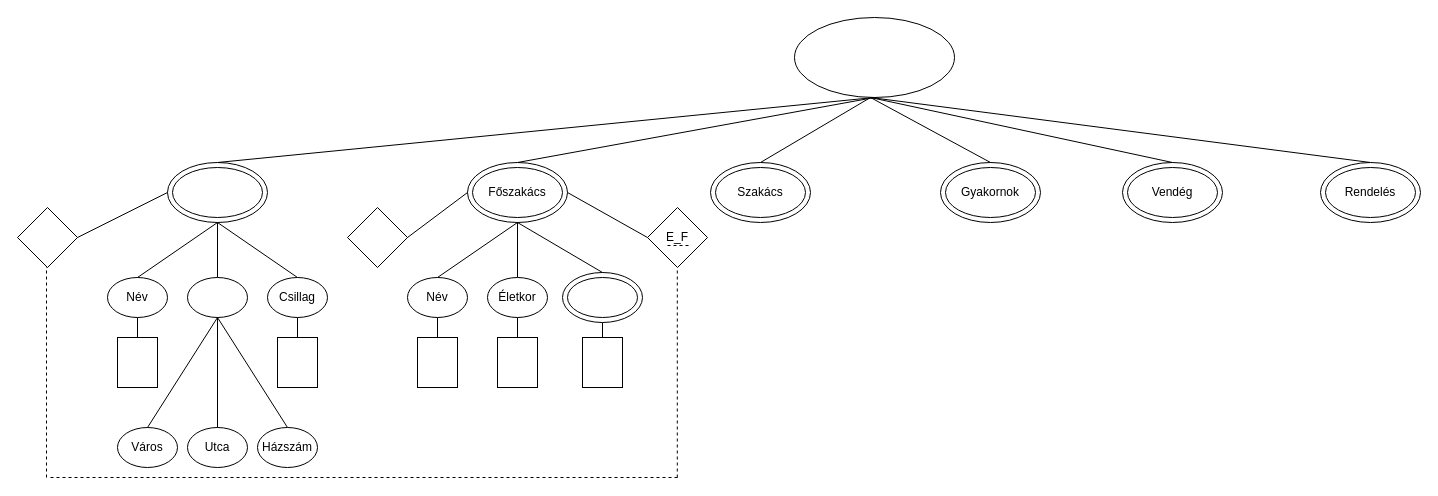
Image size: 1438x496. Some labels were removed from this diagram. Each missing label, with the centre of its shape:
Cím: the point at 217,297
Ekod: the point at 47,237
Fkod: the point at 377,237
GJWXEU_Vendéglátás: the point at 874,57
Végzettség: the point at 602,297
Étterem: the point at 217,192
